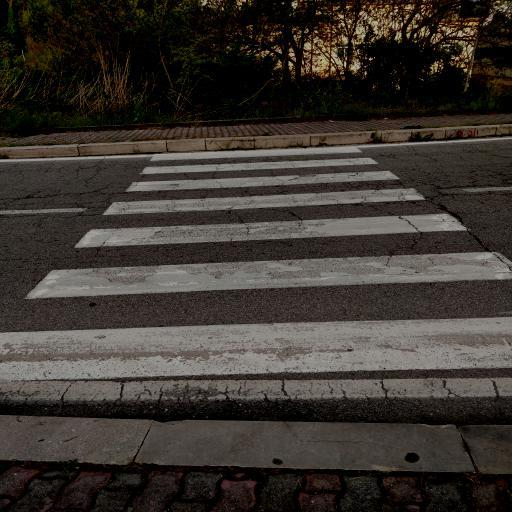crosswalk: (0, 246, 512, 387), (96, 167, 438, 218)
